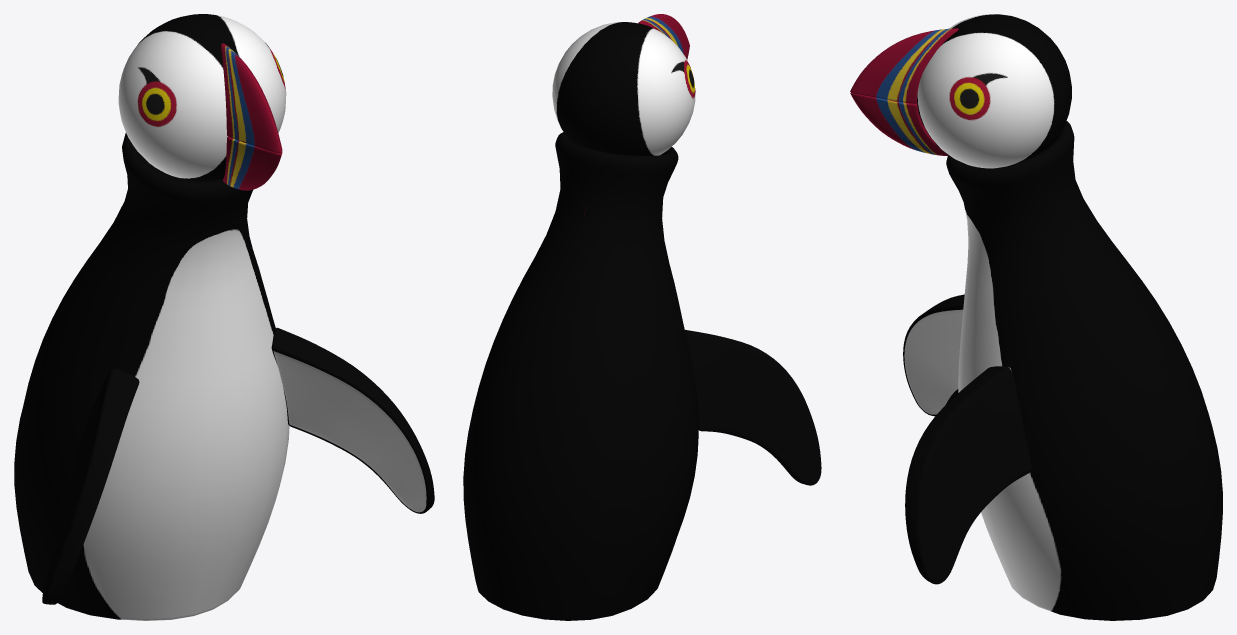
Rendered from Kay_Bojesen_The_Puffin.fbx.
3 renders of one model, left to right at view 1: azimuth 30°, elevation 25°; view 2: azimuth 150°, elevation 25°; view 3: azimuth 270°, elevation 25°, orthographic. The views are drawn at different scales.
Visible parts, largest first — view 1: Kay_Bojesen_The_Puffin; view 2: Kay_Bojesen_The_Puffin; view 3: Kay_Bojesen_The_Puffin.
Part boxes in pixels (x1,y1,x2,y2): Kay_Bojesen_The_Puffin: (14,14,434,620); Kay_Bojesen_The_Puffin: (463,14,821,620); Kay_Bojesen_The_Puffin: (850,14,1222,620).
Size of the model in its own units: 13.39 by 11.93 by 19.72.
